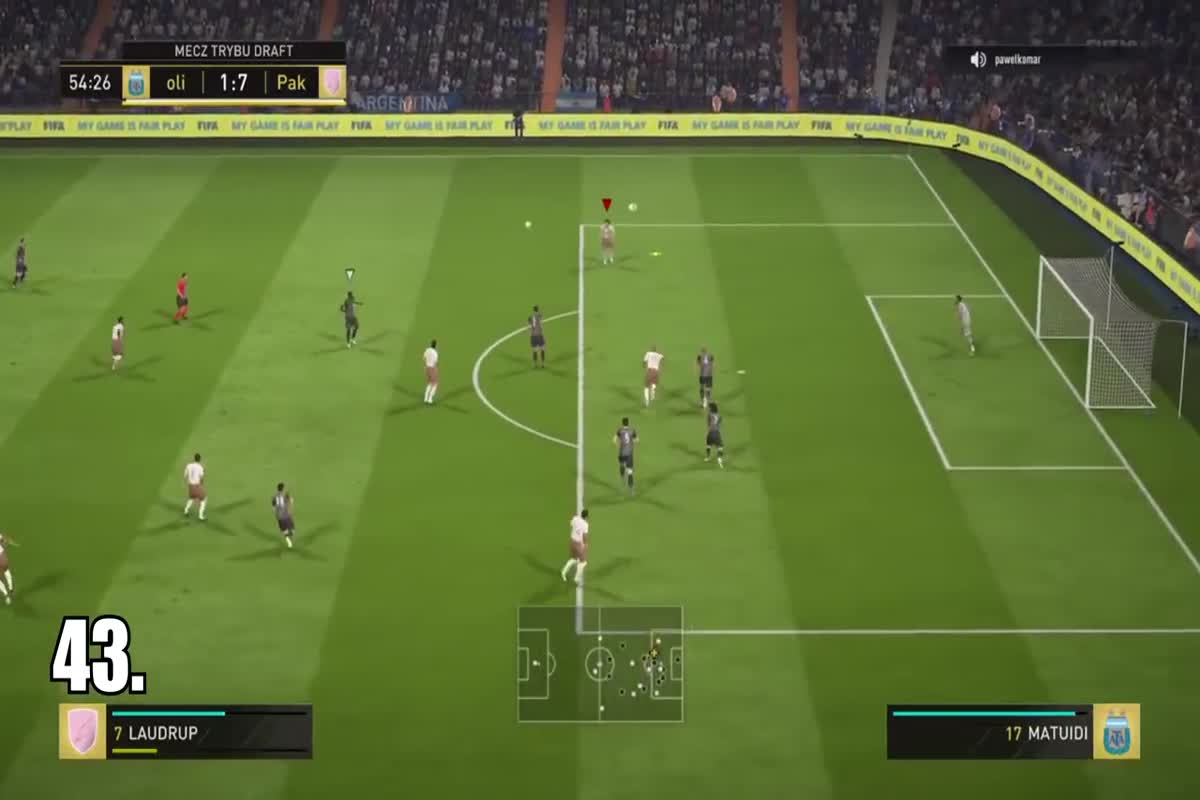ball: (517, 214, 540, 238)
